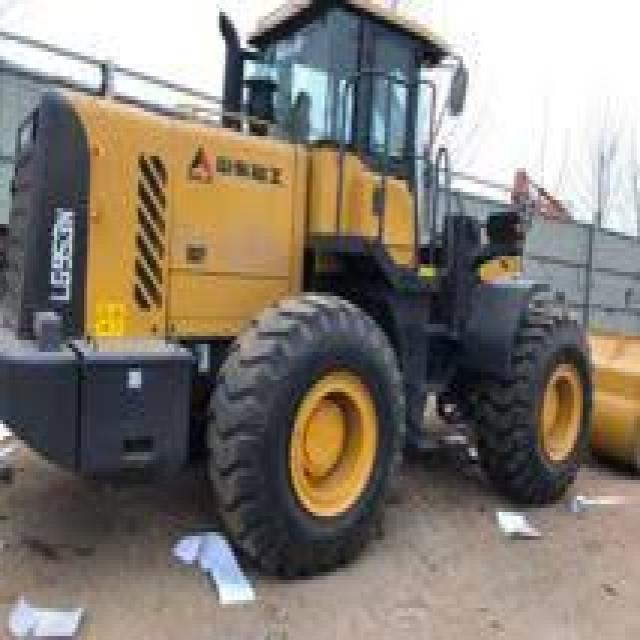buldozerpayloadergrader: (1, 0, 598, 584)
